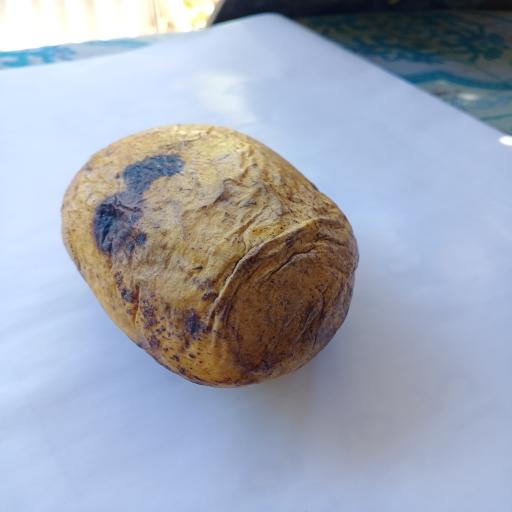mango-overripe: (45, 109, 374, 398)
